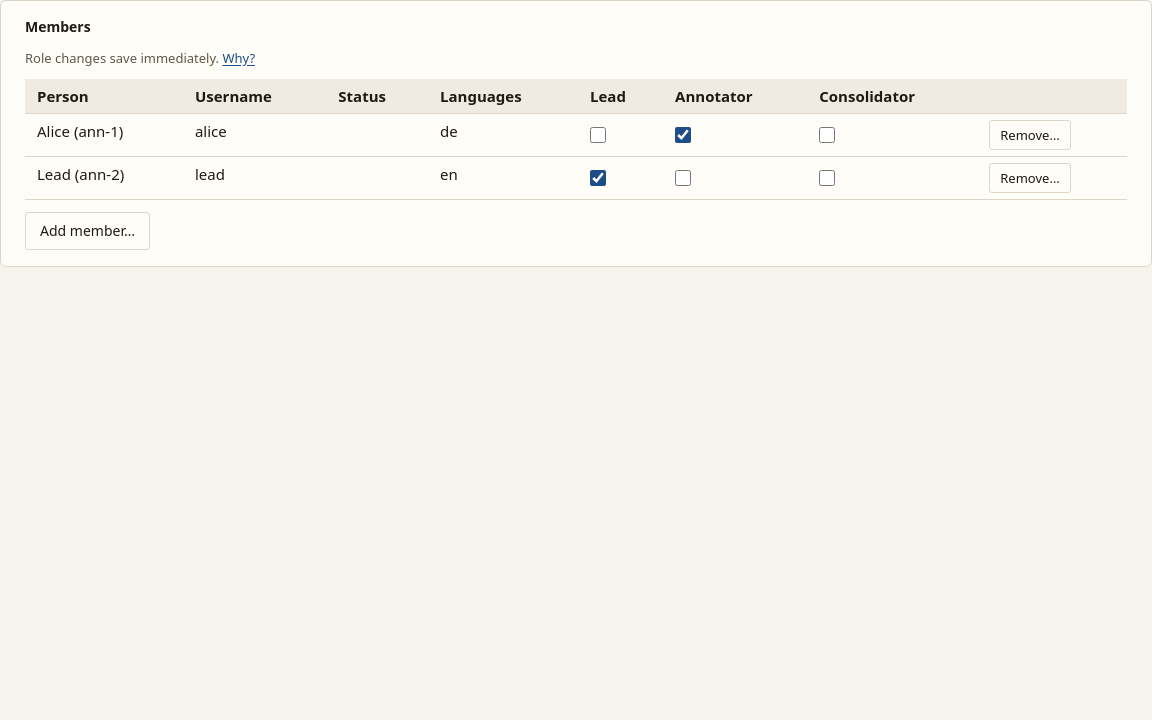
Test: project members › says plainly when the typed username does not exist
Click the button "Add member…" at (88, 231), box [25,212,150,250]
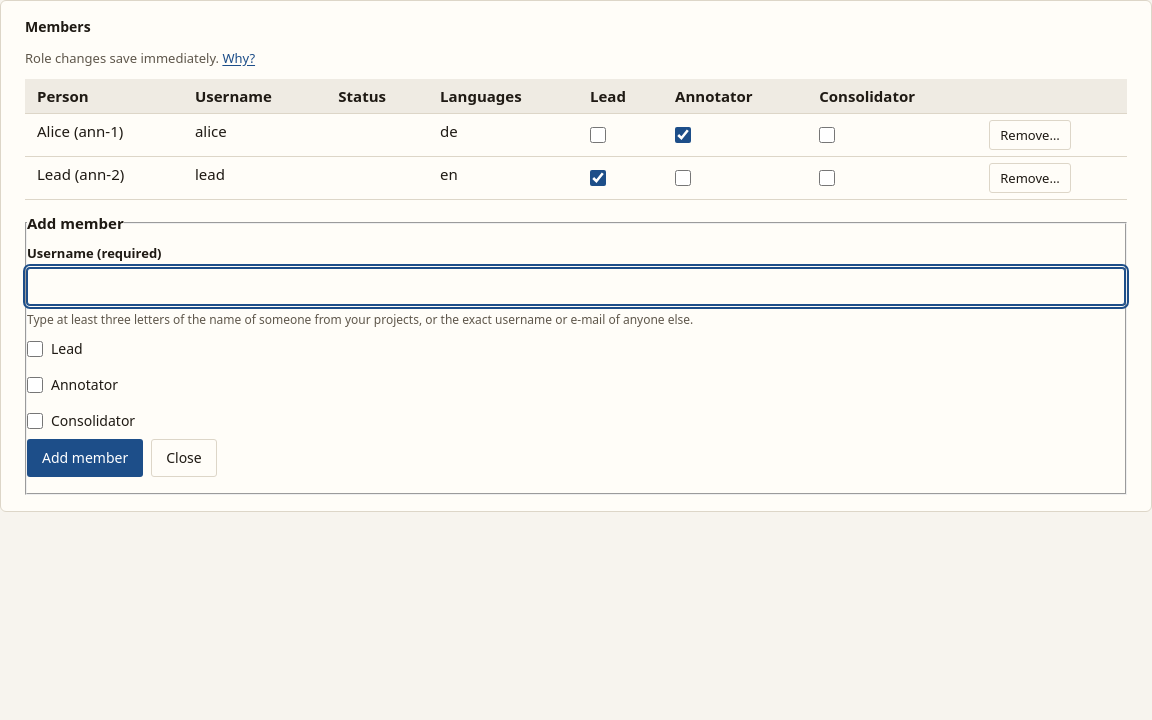
Type "mraia" into the dropdown labelled "Username (required)" at (576, 286), box [27,268,1125,305]
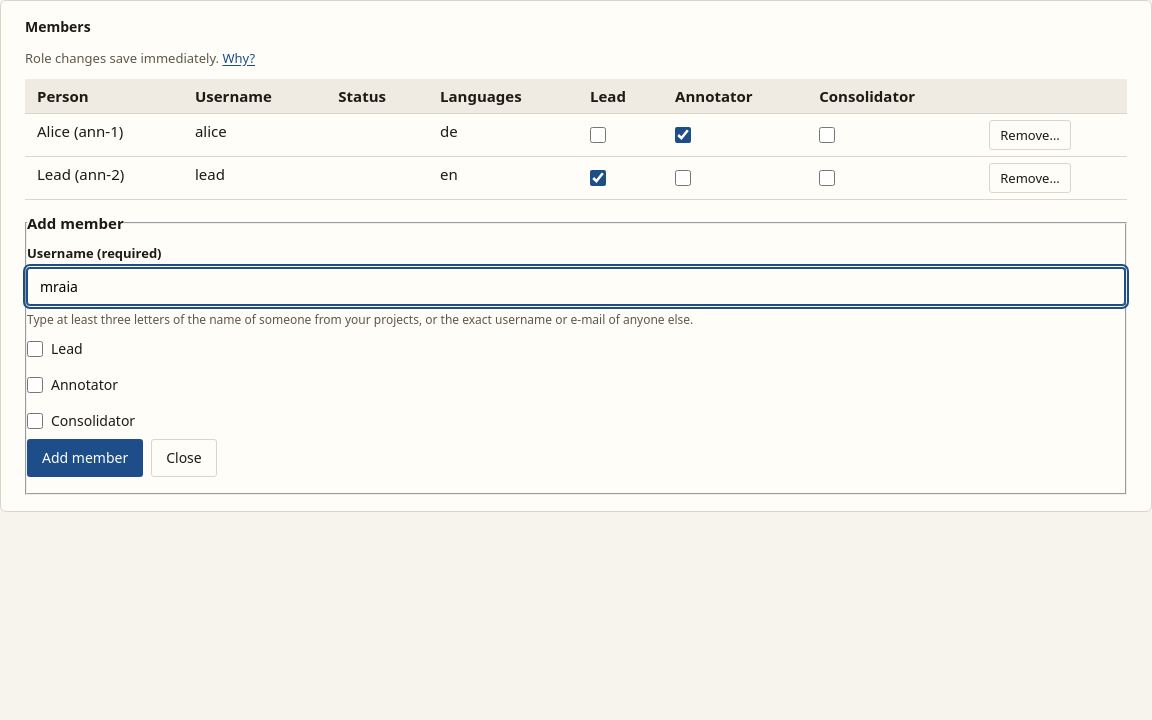
Click the checkbox named "New member: Annotator" at (35, 385), box [27,377,43,393]
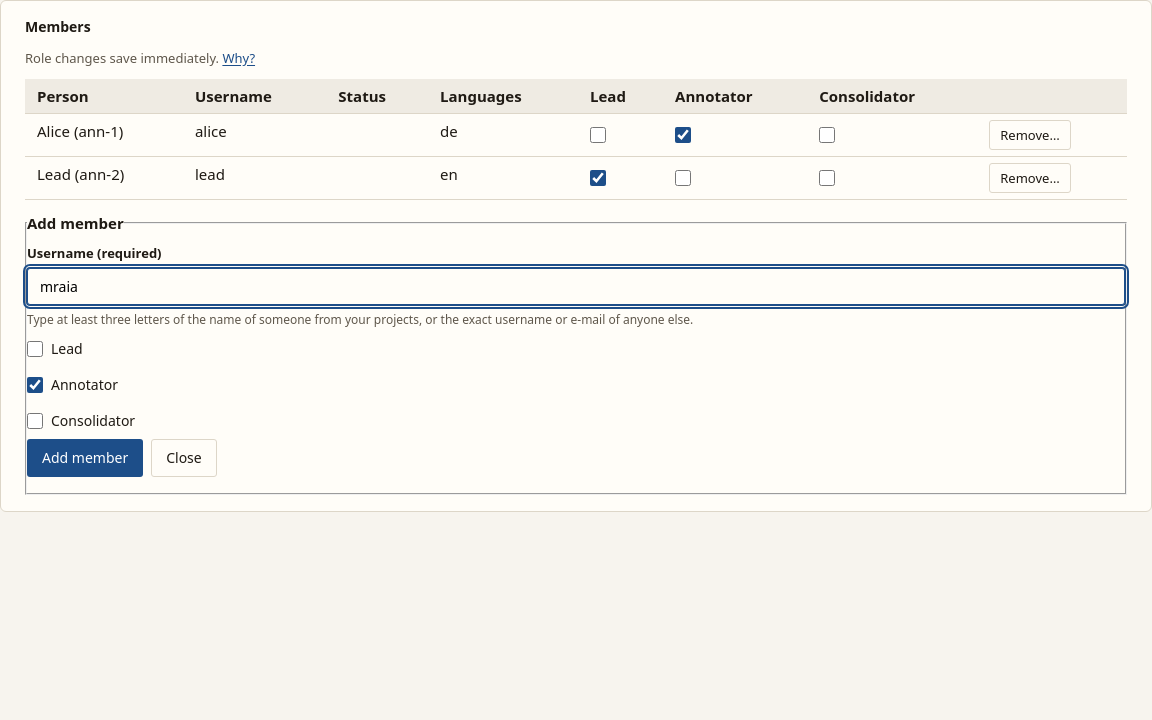
Click the button "Add member" at (85, 458), box [27,439,143,477]
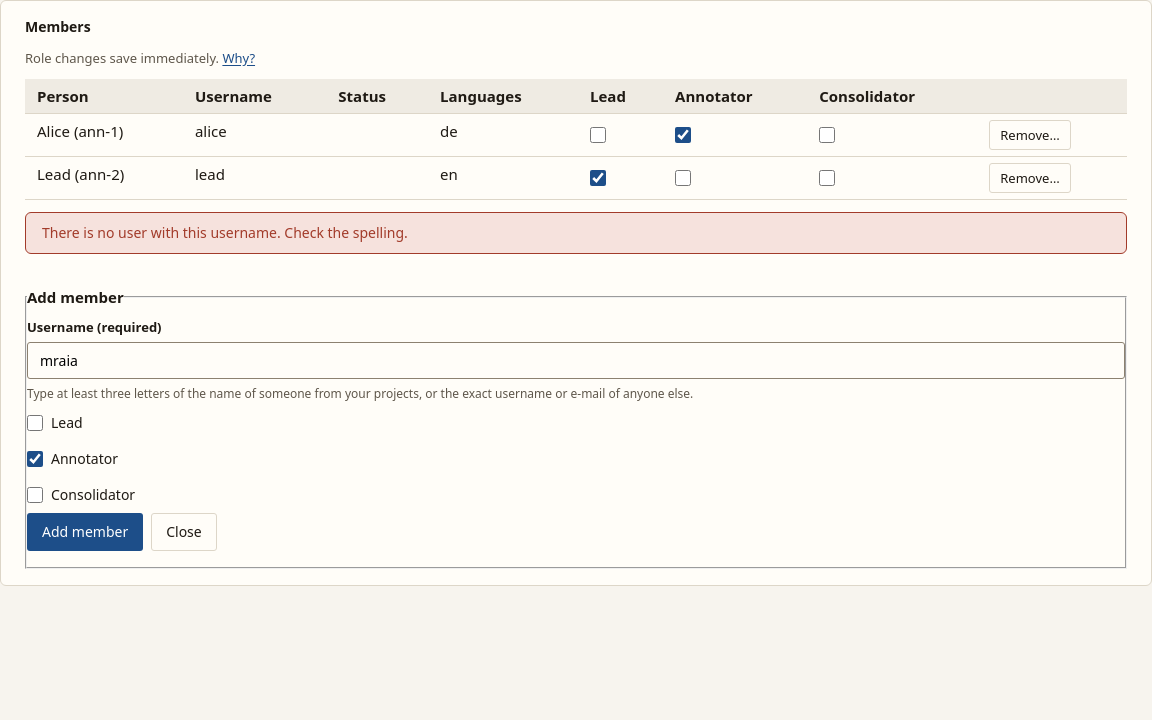
expect the message reads "There is no user with this username. Check the spelling.": met, box [42,223,408,242]
